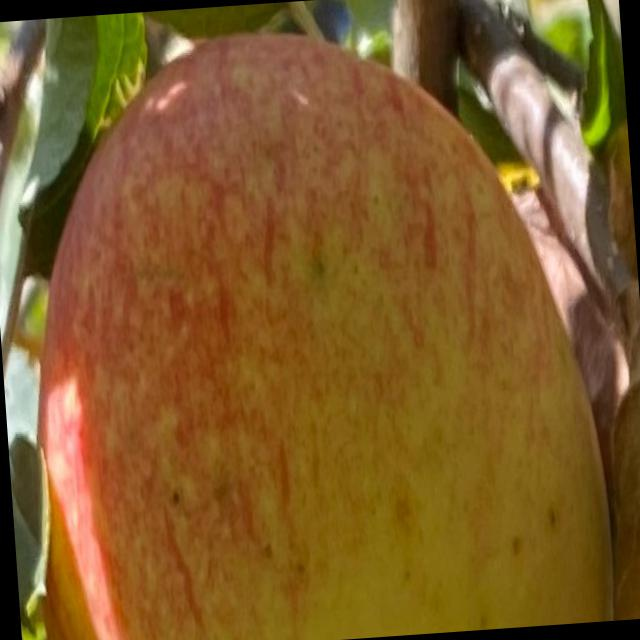Apples: (5, 9, 620, 639)
